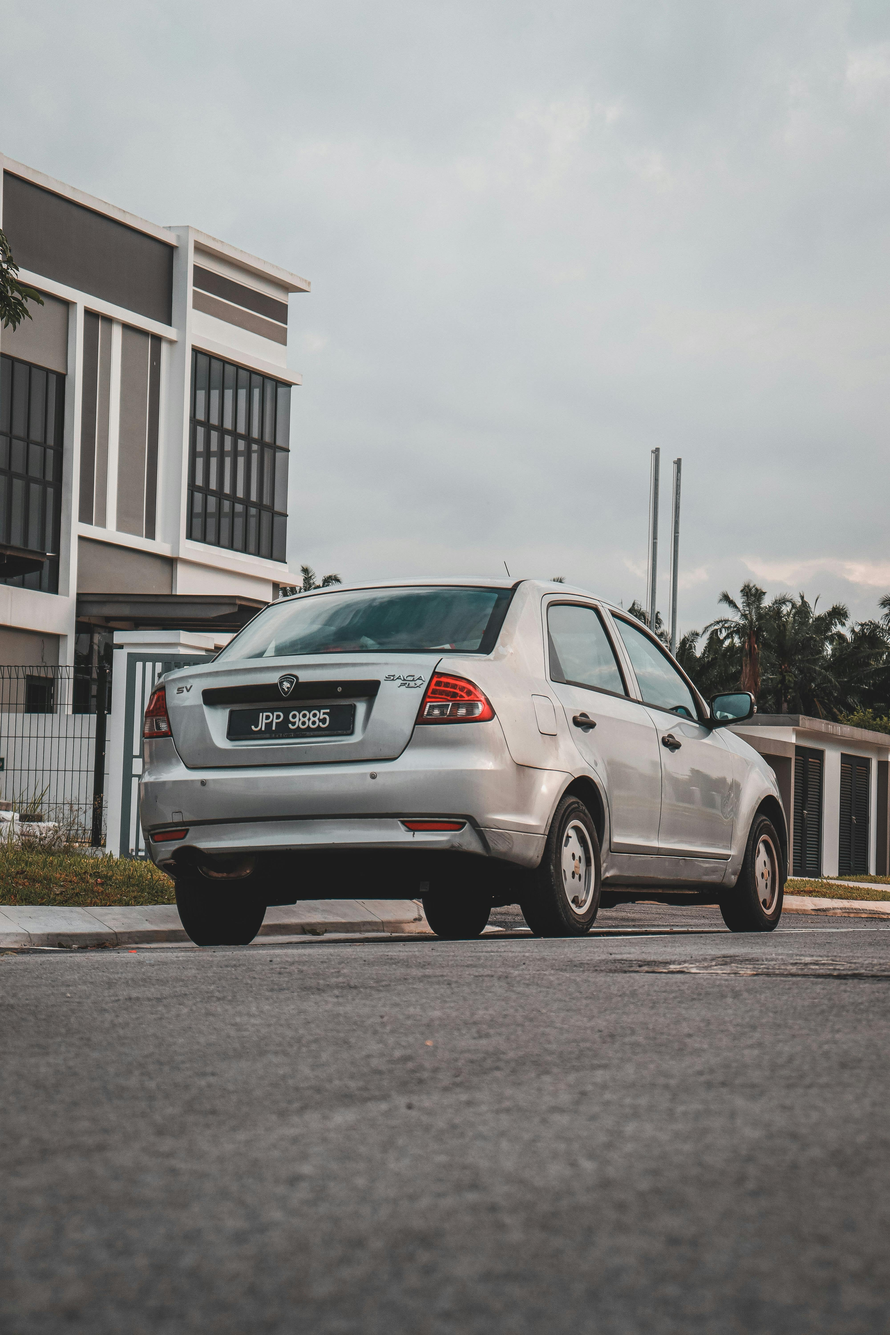other: (120, 568, 804, 951)
